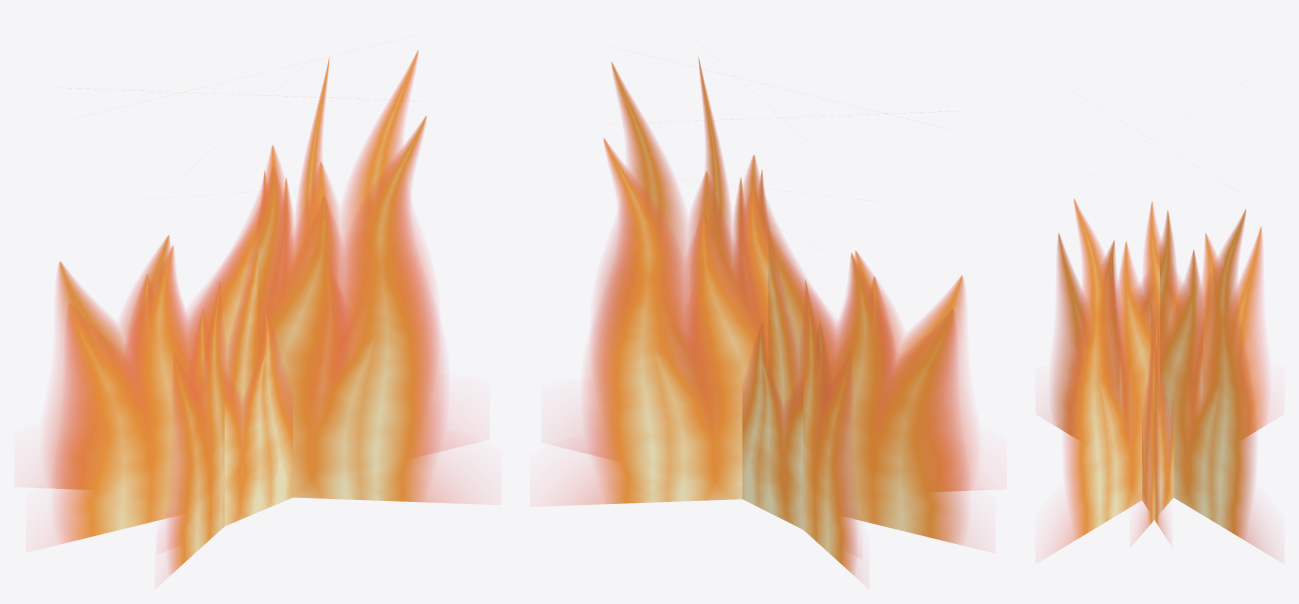
File: citadel_fx_fire.glb
3 renders of one model, left to right at view 1: azimuth 30°, elevation 25°; view 2: azimuth 150°, elevation 25°; view 3: azimuth 270°, elevation 25°, orthographic. The views are drawn at different scales.
Visible parts, largest first — view 1: fx_fire_flame_card_cards, fx_fire_flame_card2_cards; view 2: fx_fire_flame_card_cards, fx_fire_flame_card2_cards; view 3: fx_fire_flame_card_cards, fx_fire_flame_card2_cards.
Part boxes in pixels (x1,y1,x2,y2): fx_fire_flame_card_cards: [35, 50, 480, 579]; fx_fire_flame_card2_cards: [127, 187, 348, 525]; fx_fire_flame_card_cards: [550, 57, 985, 580]; fx_fire_flame_card2_cards: [689, 276, 892, 529]; fx_fire_flame_card_cards: [1046, 198, 1273, 556]; fx_fire_flame_card2_cards: [1112, 257, 1202, 541].
Size of the model in its own units: 1.15 by 1 by 0.6023.
Materials: 2 (2 with a texture image).
